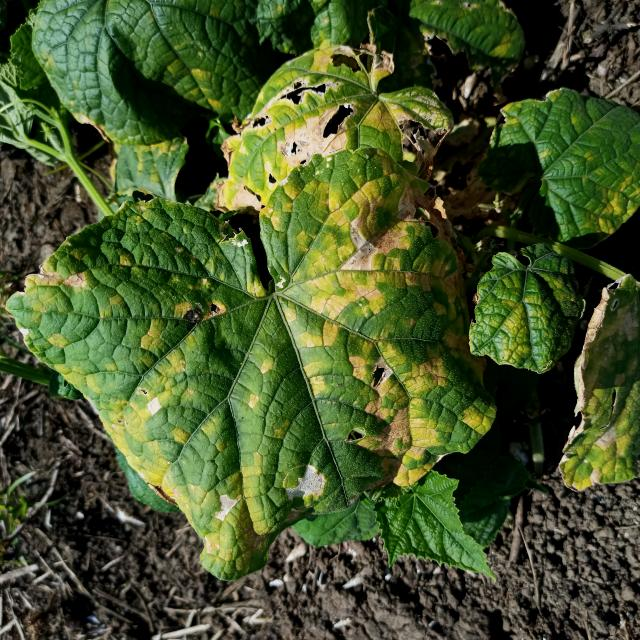disease_cucumber: (11, 50, 473, 581)
